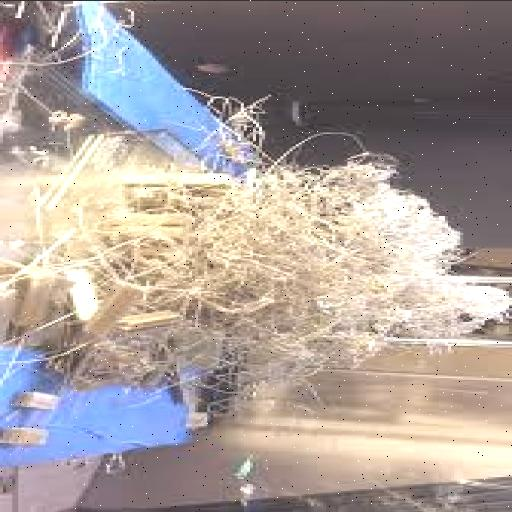spaghetti: (94, 128, 482, 424)
